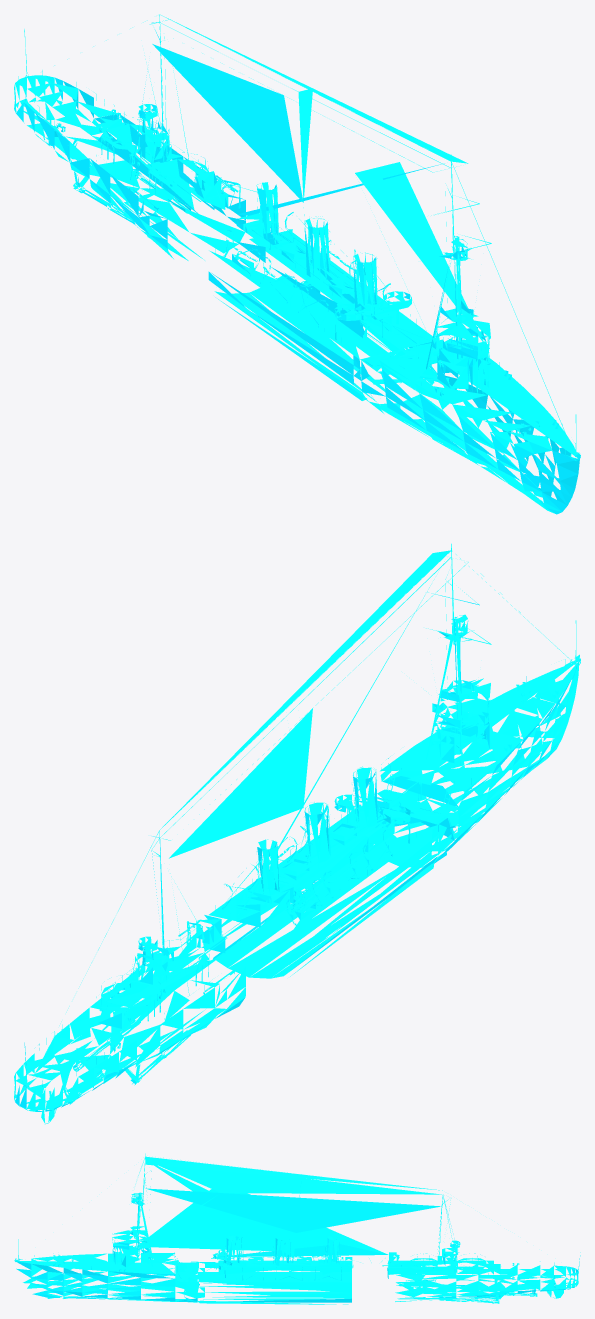
File: Tatsuta.glb
The picture shows the model from 3 angles, top to bottom: view 1: azimuth 30°, elevation 25°; view 2: azimuth 150°, elevation 25°; view 3: azimuth 270°, elevation 25°; orthographic projection. The views are drawn at different scales.
Bounding box in the file's own units: 0.8431 × 2.71 × 9.55.
